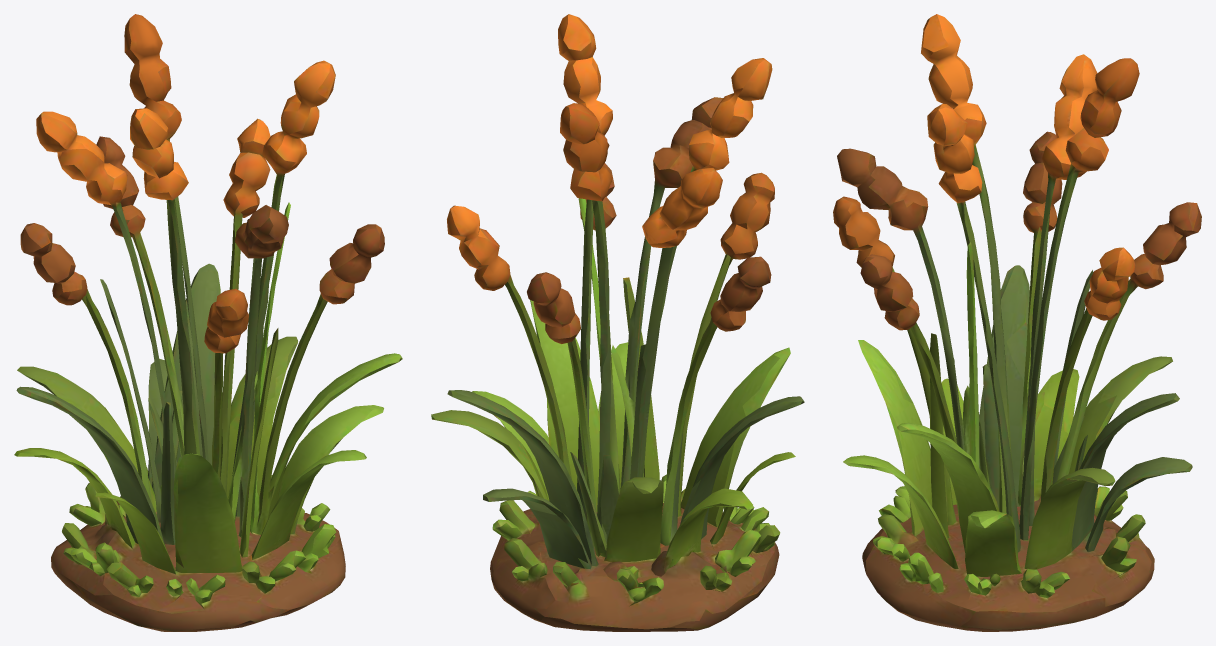
The model's file is sz-grass-tuft.glb.
3 views of the same model, side by side, from view 1: azimuth 30°, elevation 25°; view 2: azimuth 150°, elevation 25°; view 3: azimuth 270°, elevation 25° (orthographic).
Visible parts, largest first — view 1: geometry_0; view 2: geometry_0; view 3: geometry_0.
Part boxes in pixels (left/top/right/bottom): geometry_0: left=14, top=14, right=402, bottom=631; geometry_0: left=431, top=14, right=804, bottom=631; geometry_0: left=833, top=14, right=1201, bottom=631.
Bounding box in the file's own units: 0.7103 × 1 × 0.6472.
1 material, 1 textured.
